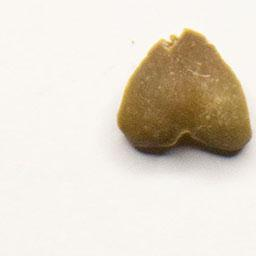defect: (112, 23, 254, 159)
